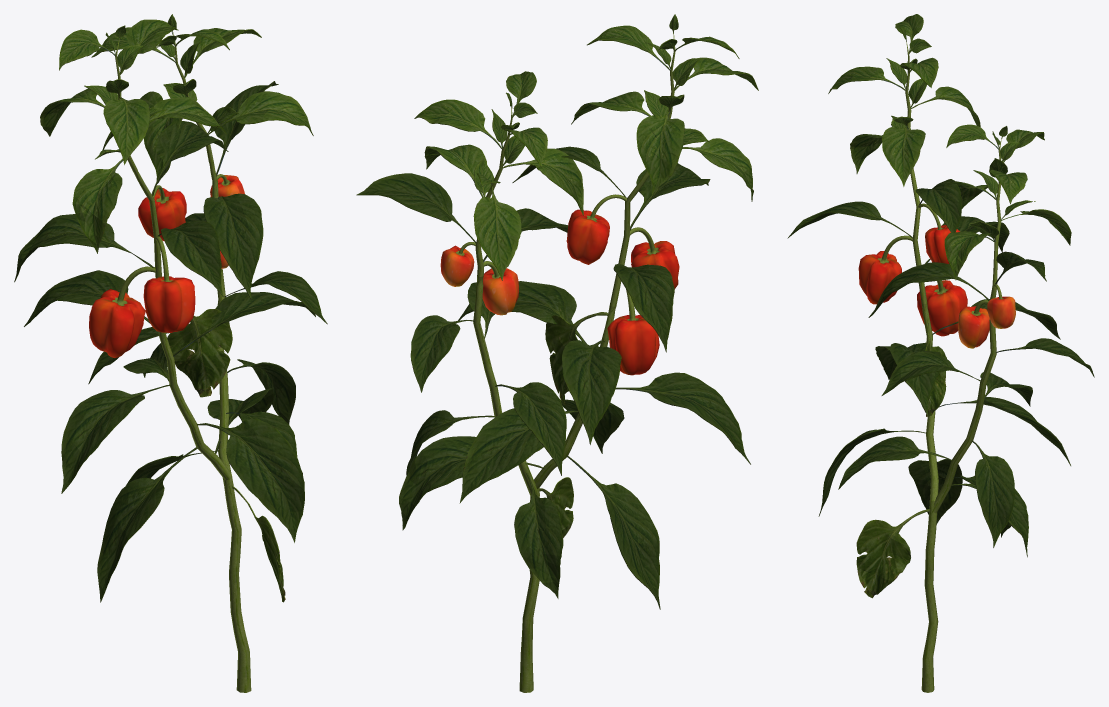
3 renders of one model, left to right at view 1: azimuth 30°, elevation 25°; view 2: azimuth 150°, elevation 25°; view 3: azimuth 270°, elevation 25°, orthographic. The views are drawn at different scales.
Parts seen in each view (by area): view 1: VG07_024; view 2: VG07_024; view 3: VG07_024.
Boxes of the visible parts, x1,y1,x2,y2 form: VG07_024: (14, 14, 327, 692); VG07_024: (356, 14, 758, 692); VG07_024: (787, 14, 1094, 692).
Size of the model in its own units: 0.5033 by 0.5059 by 1.1.
6 materials, 6 textured.
